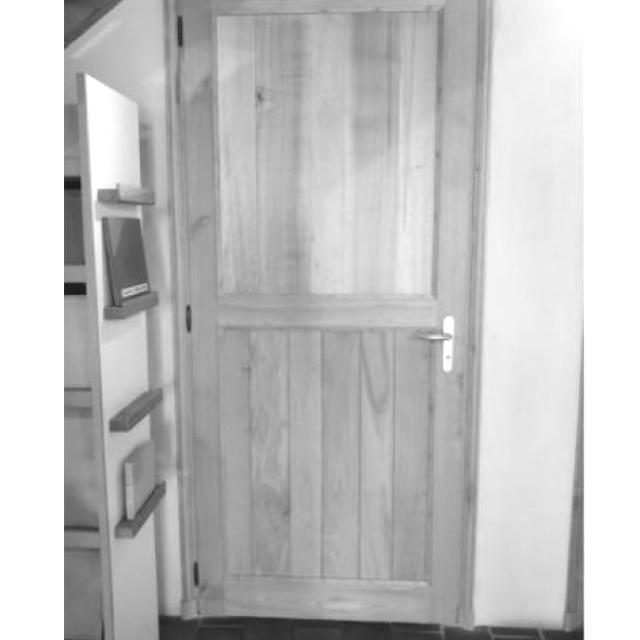door: (169, 0, 490, 628)
